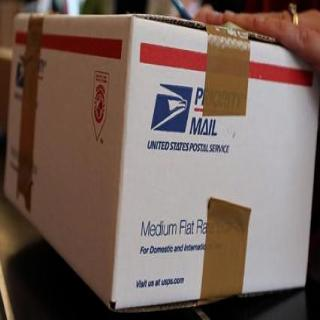package: (3, 8, 319, 311)
